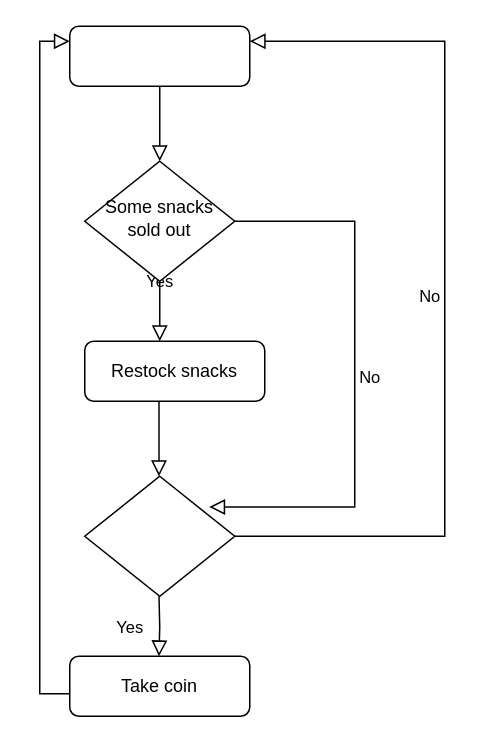
This 486x743 diagram has some shape labels left out. The shapes that lost their labels are listed below. From the top down, each one's box as (x1, y1, x2, y2) in pixels, then its label:
(68, 25, 250, 86): machine owner check machine
(83, 475, 235, 596): coin storage has coins
